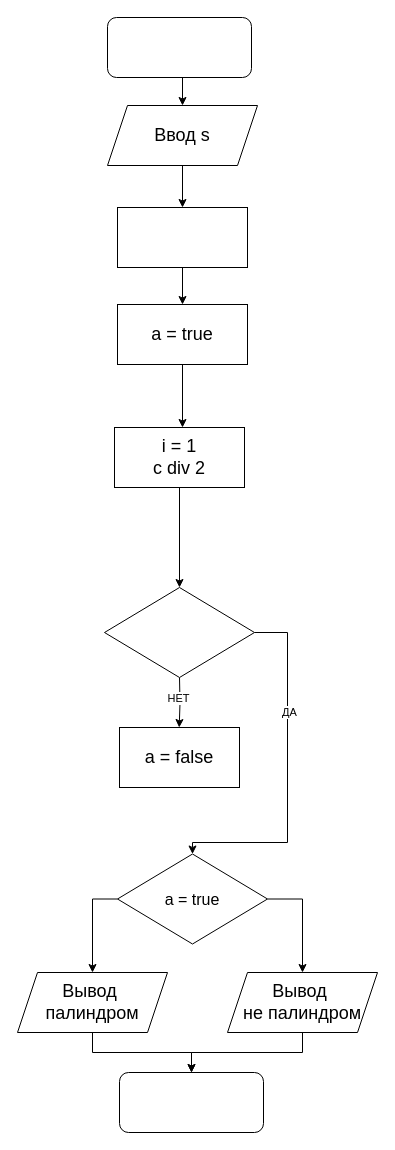
The diagram is 395 pixels wide and 1150 high, and some of its shapes have lost their labels. The centre of each missing label's shape, as x and y in pixels:
"c = длина строки" belongs at point (182, 237).
"s от i = s от c-i+1" belongs at point (179, 632).
"КОНЕЦ" belongs at point (191, 1102).
"НАЧАЛО" belongs at point (179, 47).
